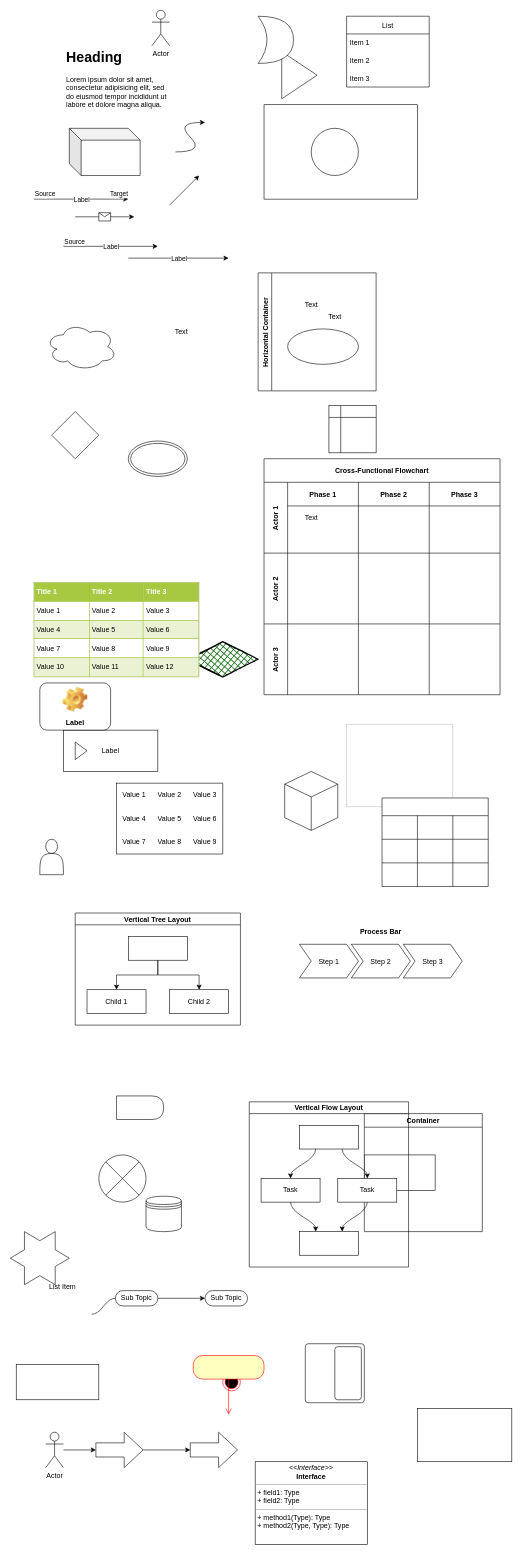
The diagram is 522 pixels wide and 1555 high, and some of its shapes have lost their labels. Here are the shapes that lost their labels. From the top down, the centre of each, then its label:
At pixel 399 765: "Value 1 Value 2 Value 3 Value 4 Value 5 Value 6 Value 7 Value 8 Value 9".
At pixel 434 841: "Table".
At pixel 157 948: "Root".
At pixel 328 1137: "Start".
At pixel 328 1243: "End".
At pixel 57 1382: "Class".
At pixel 228 1367: "Activity".
At pixel 320 1373: "main".
At pixel 347 1373: "sub".
At pixel 464 1435: "Object:Type field1 = value1 field2 = value2 field3 = value3".
